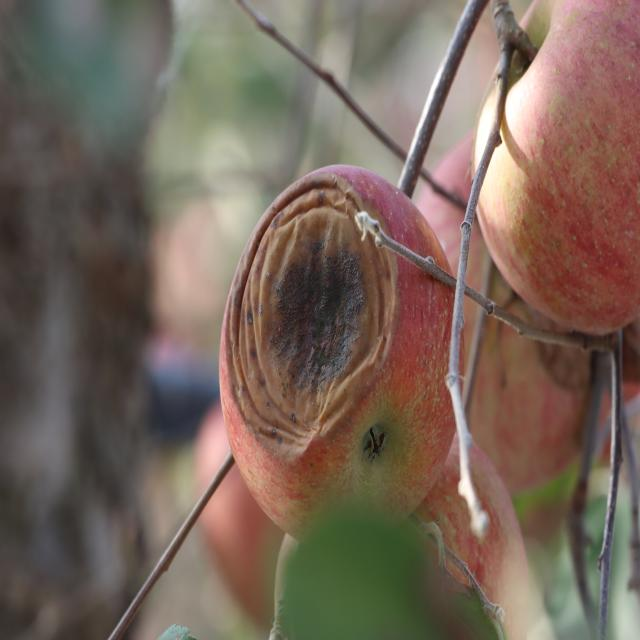rotten: (206, 158, 468, 559)
